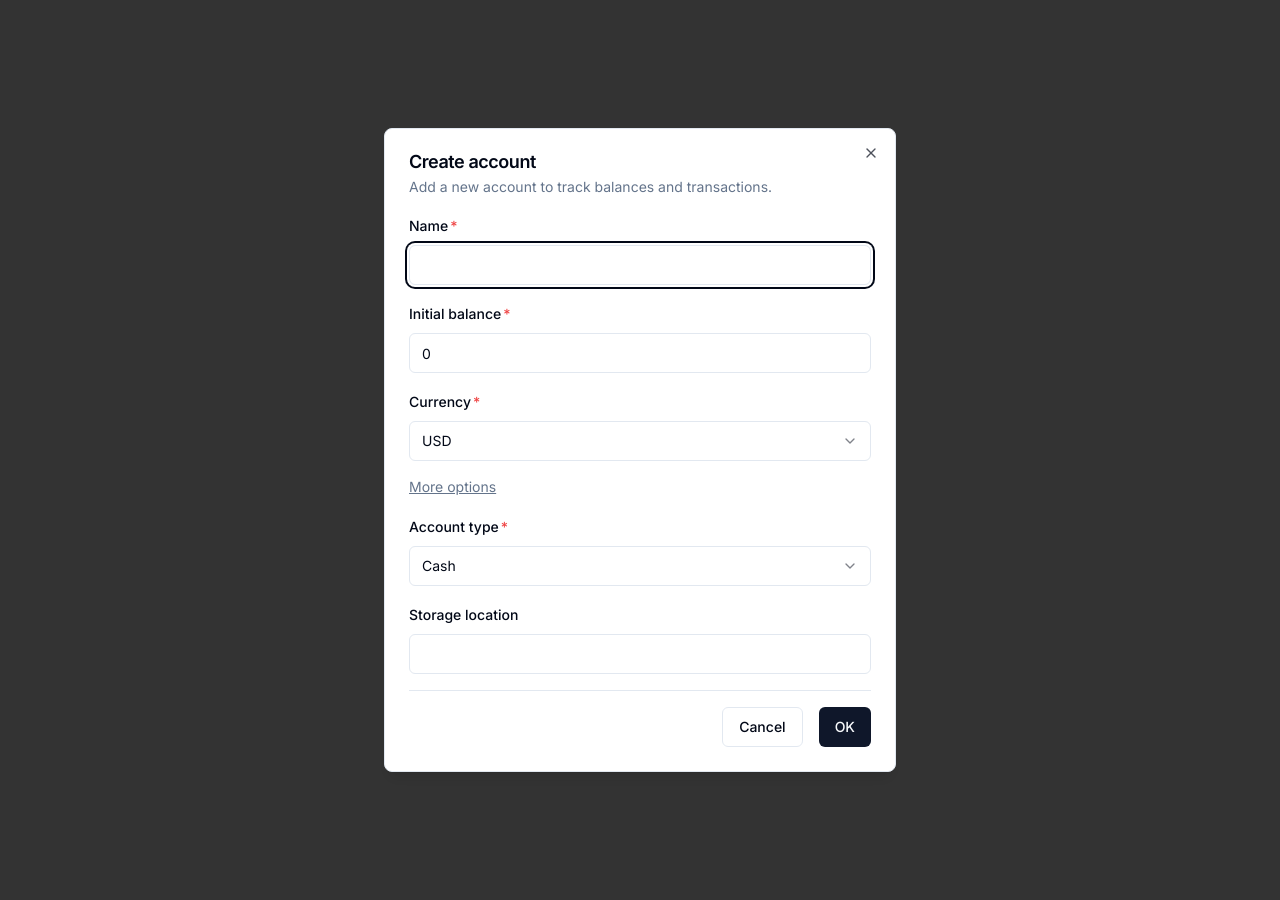
it: CreateAccountDialog › blocks submission with negative balance and no overdraft limit
Type "Test" into the field labelled "Name*" at (640, 265), box [409,245,871,285]
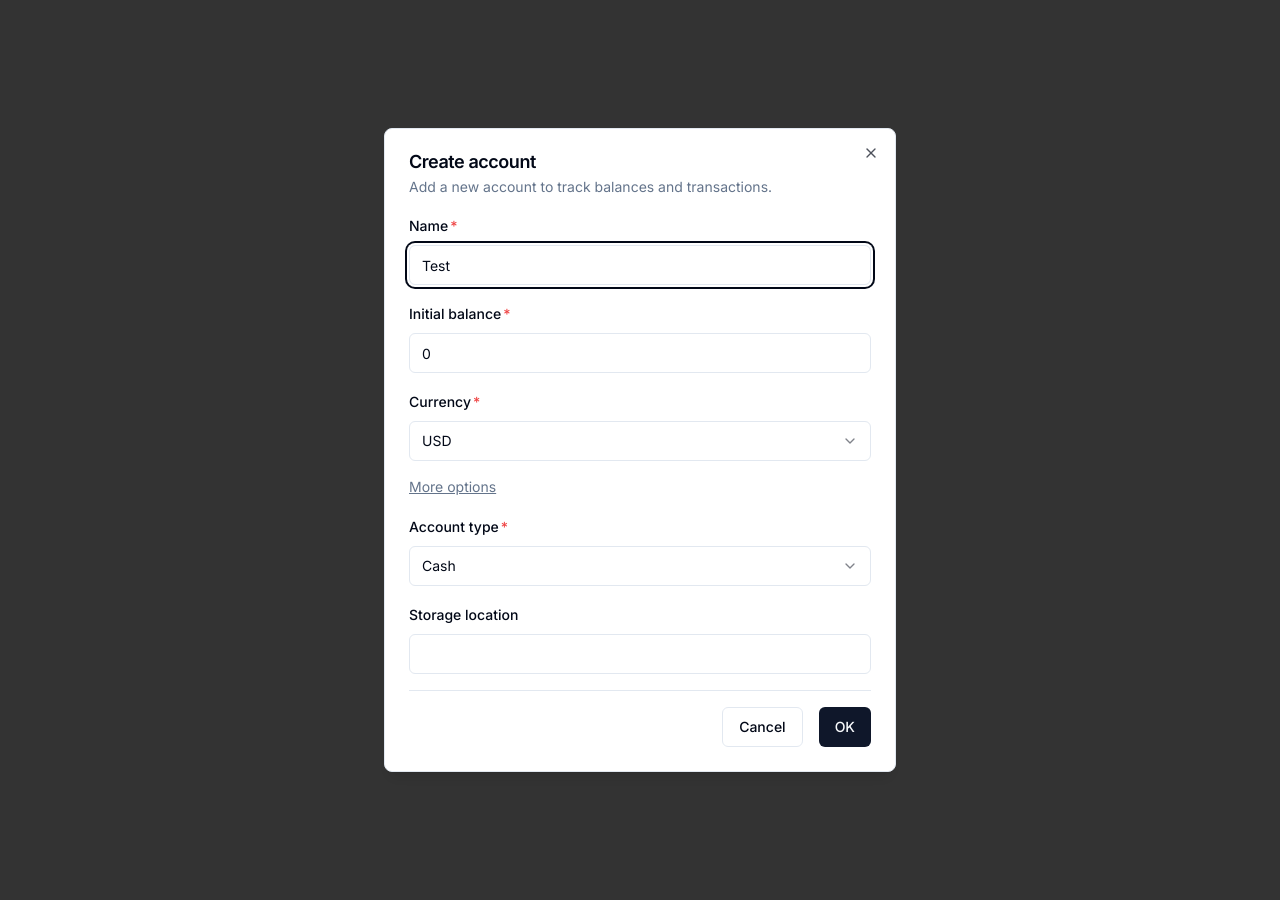
Replace the text in the number field labelled "Initial balance*" with "-100" at (640, 353), box [409,333,871,373]
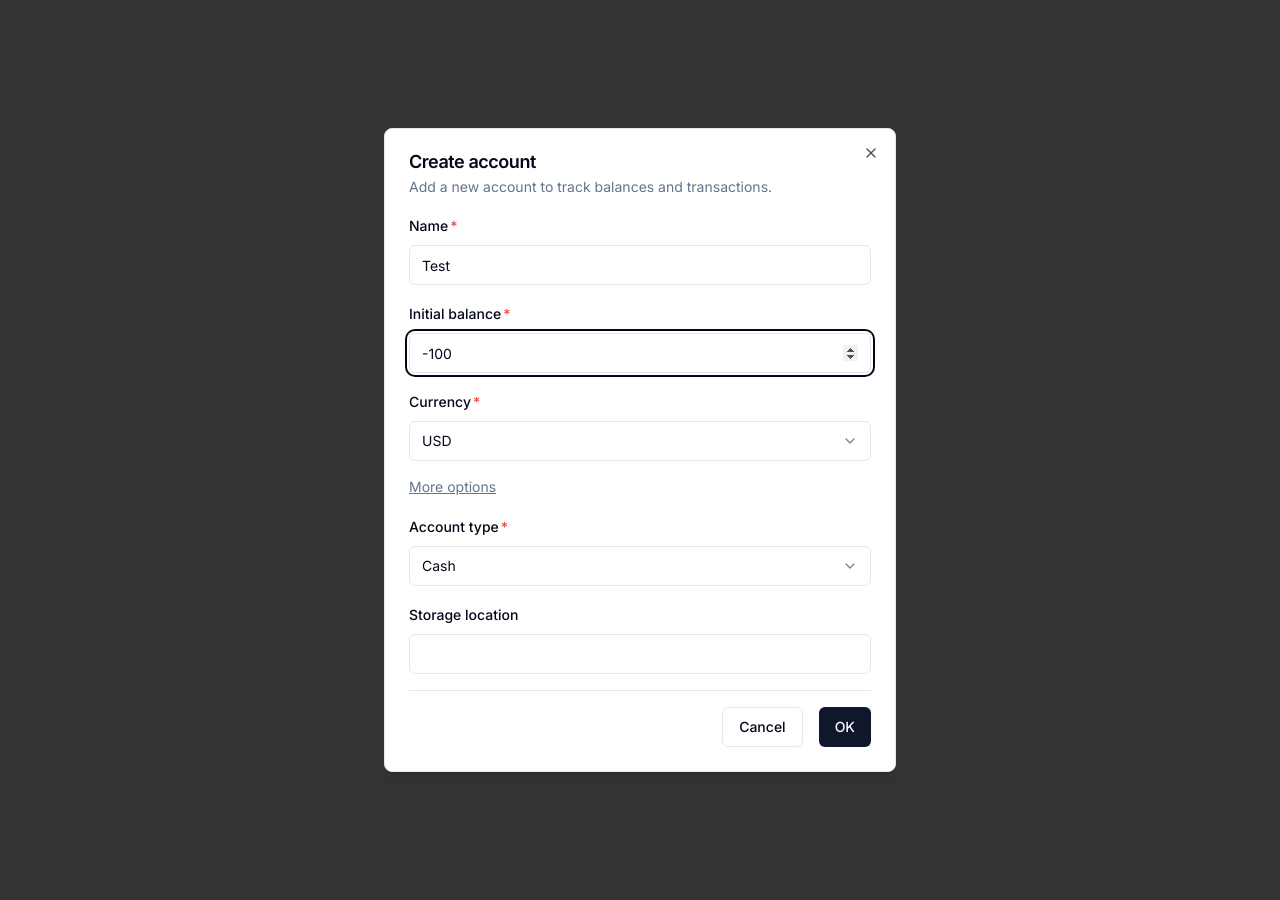
Click the button "OK" at (845, 727), box [819,707,871,747]
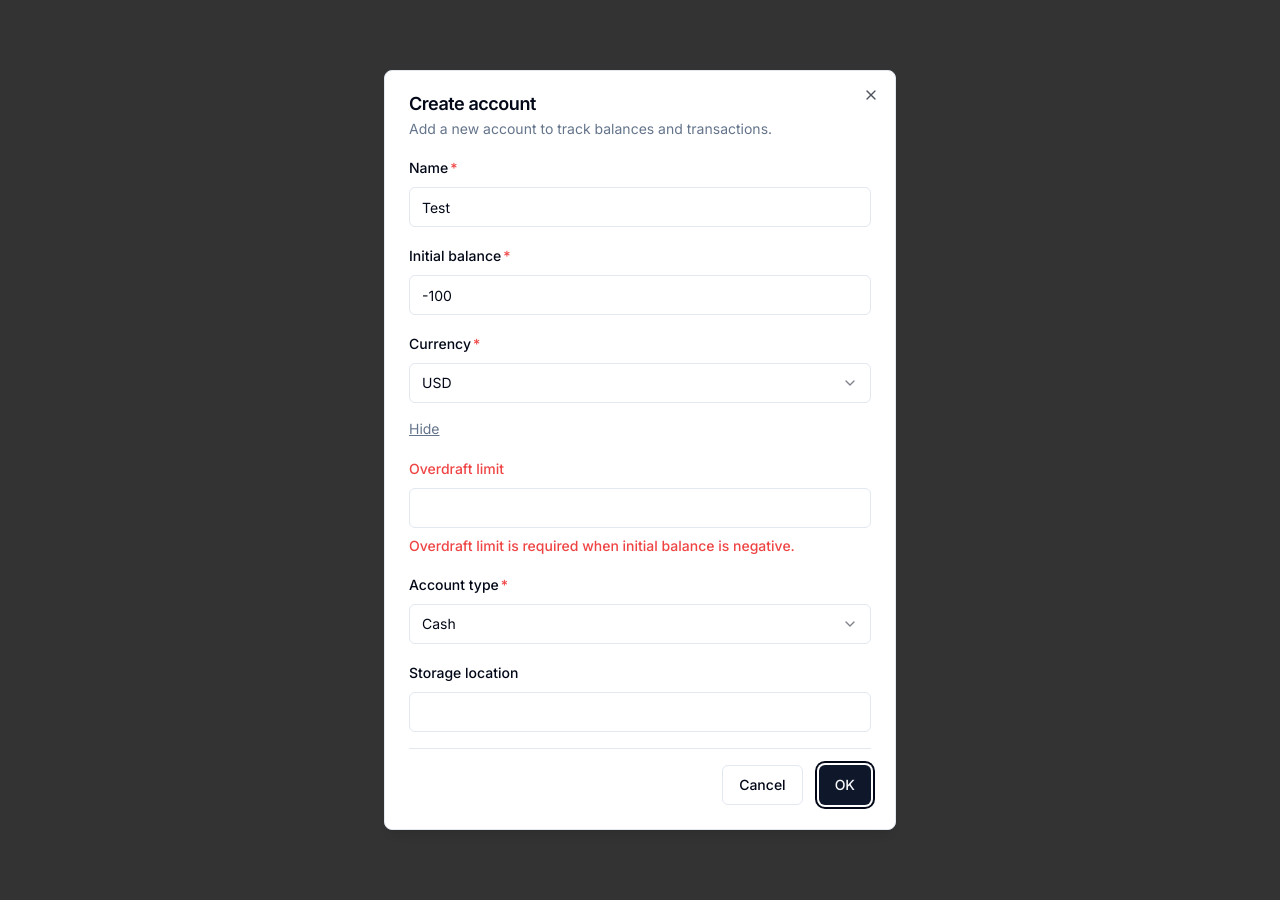
Result: the text "Overdraft limit is required" is shown at [409,537,795,554]
